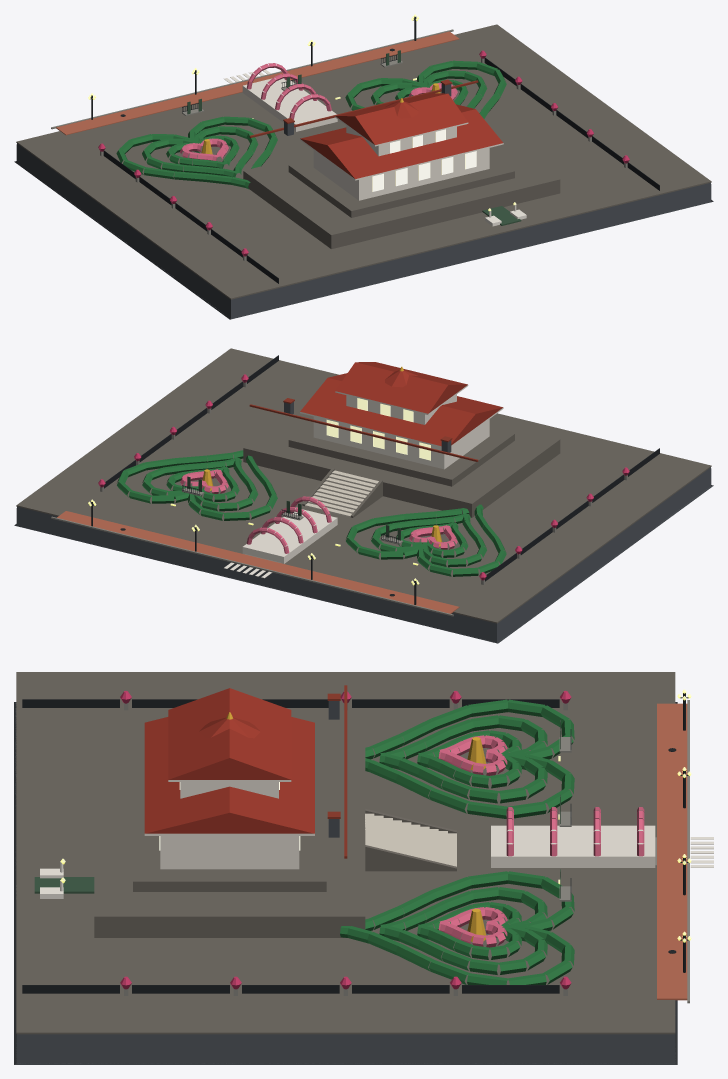
Rendered from lm_17_thung_lung_tinh_yeu.glb.
3 renders of one model, top to bottom at view 1: azimuth 30°, elevation 25°; view 2: azimuth 150°, elevation 25°; view 3: azimuth 270°, elevation 25°, orthographic. The views are drawn at different scales.
Visible parts, largest first — view 1: Foundation_Plinth_Trim, Valley_Stone_Terraces, Foundation_Skirt, Love_Heart_Labyrinth_Hedges, VongCanh_White_Pavilion, VongCanh_Lower_Veranda_Roof, Phase2_Interlocking_Brick_Sidewalk, VongCanh_Upper_Pavilion_Roof, Phase2_WroughtIron_Balconies_Railings_Manholes, Valley_Rose_Arches_And_Beds, VongCanh_Pavilion_Glass_Glow, Phase2_Granite_Curb_And_Entry_Steps (+2 smaller); view 2: Foundation_Plinth_Trim, Valley_Stone_Terraces, Foundation_Skirt, Love_Heart_Labyrinth_Hedges, VongCanh_White_Pavilion, VongCanh_Lower_Veranda_Roof, Phase2_Interlocking_Brick_Sidewalk, VongCanh_Upper_Pavilion_Roof, Phase2_WroughtIron_Balconies_Railings_Manholes, Valley_Rose_Arches_And_Beds, VongCanh_Hill_Grand_Stairs, Phase2_Granite_Curb_And_Entry_Steps (+4 smaller); view 3: Foundation_Plinth_Trim, Valley_Stone_Terraces, Love_Heart_Labyrinth_Hedges, Foundation_Skirt, VongCanh_White_Pavilion, VongCanh_Lower_Veranda_Roof, VongCanh_Upper_Pavilion_Roof, Phase2_Interlocking_Brick_Sidewalk, Phase2_WroughtIron_Balconies_Railings_Manholes, Valley_Rose_Arches_And_Beds, VongCanh_Hill_Grand_Stairs, VongCanh_Hill_Grand_Stairs_Cheeks (+7 smaller).
Part boxes in pixels (box(x1,y1,x2,y2)): Foundation_Plinth_Trim: box(16, 24, 711, 299); Valley_Stone_Terraces: box(243, 131, 560, 249); Foundation_Skirt: box(14, 143, 713, 319); Love_Heart_Labyrinth_Hedges: box(116, 60, 506, 189); VongCanh_White_Pavilion: box(242, 76, 489, 200); VongCanh_Lower_Veranda_Roof: box(300, 104, 502, 178); Phase2_Interlocking_Brick_Sidewalk: box(56, 31, 459, 135); VongCanh_Upper_Pavilion_Roof: box(335, 93, 467, 144); Phase2_WroughtIron_Balconies_Railings_Manholes: box(90, 16, 659, 283); Valley_Rose_Arches_And_Beds: box(180, 63, 457, 160); VongCanh_Pavilion_Glass_Glow: box(372, 129, 476, 191); Phase2_Granite_Curb_And_Entry_Steps: box(51, 29, 627, 260); Foundation_Plinth_Trim: box(16, 348, 711, 623); Valley_Stone_Terraces: box(243, 399, 560, 517); Foundation_Skirt: box(14, 467, 713, 643); Love_Heart_Labyrinth_Hedges: box(117, 450, 506, 576); VongCanh_White_Pavilion: box(242, 394, 489, 563); VongCanh_Lower_Veranda_Roof: box(300, 373, 502, 446); Phase2_Interlocking_Brick_Sidewalk: box(57, 511, 459, 613); VongCanh_Upper_Pavilion_Roof: box(335, 362, 467, 413); Phase2_WroughtIron_Balconies_Railings_Manholes: box(91, 355, 659, 604); Valley_Rose_Arches_And_Beds: box(180, 469, 457, 553); VongCanh_Hill_Grand_Stairs: box(305, 470, 378, 517); Phase2_Granite_Curb_And_Entry_Steps: box(51, 382, 627, 616); Foundation_Plinth_Trim: box(16, 672, 675, 1034); Valley_Stone_Terraces: box(94, 745, 365, 937); Love_Heart_Labyrinth_Hedges: box(340, 699, 574, 984); Foundation_Skirt: box(14, 702, 677, 1064); VongCanh_White_Pavilion: box(160, 782, 655, 869); VongCanh_Lower_Veranda_Roof: box(144, 717, 314, 833); VongCanh_Upper_Pavilion_Roof: box(168, 688, 291, 779); Phase2_Interlocking_Brick_Sidewalk: box(657, 703, 687, 1000); Phase2_WroughtIron_Balconies_Railings_Manholes: box(22, 693, 688, 993); Valley_Rose_Arches_And_Beds: box(438, 735, 644, 947); VongCanh_Hill_Grand_Stairs: box(365, 813, 456, 866); VongCanh_Hill_Grand_Stairs_Cheeks: box(365, 809, 456, 871).
Bounding box in the file's own units: 88.82 × 19.5 × 72.39.
